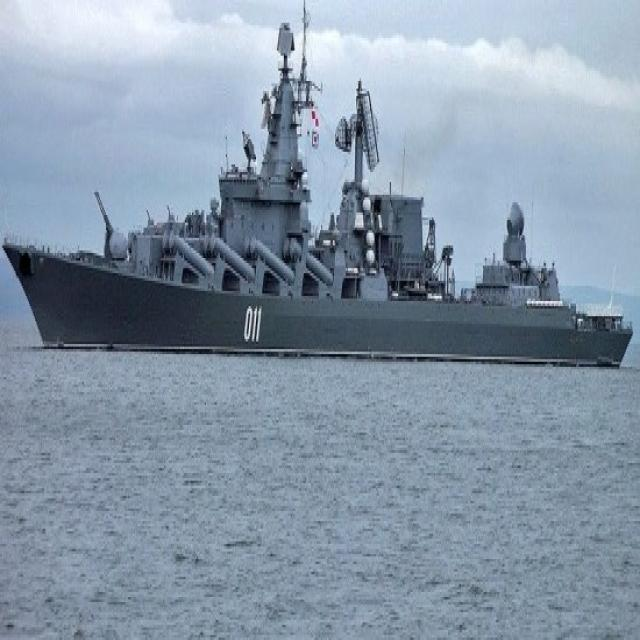navalvessels: (3, 29, 638, 392)
